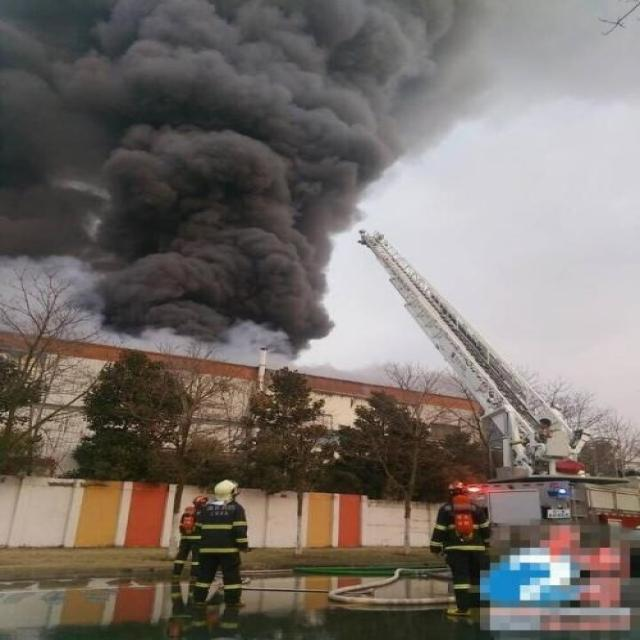Smoke: (1, 1, 639, 403)
